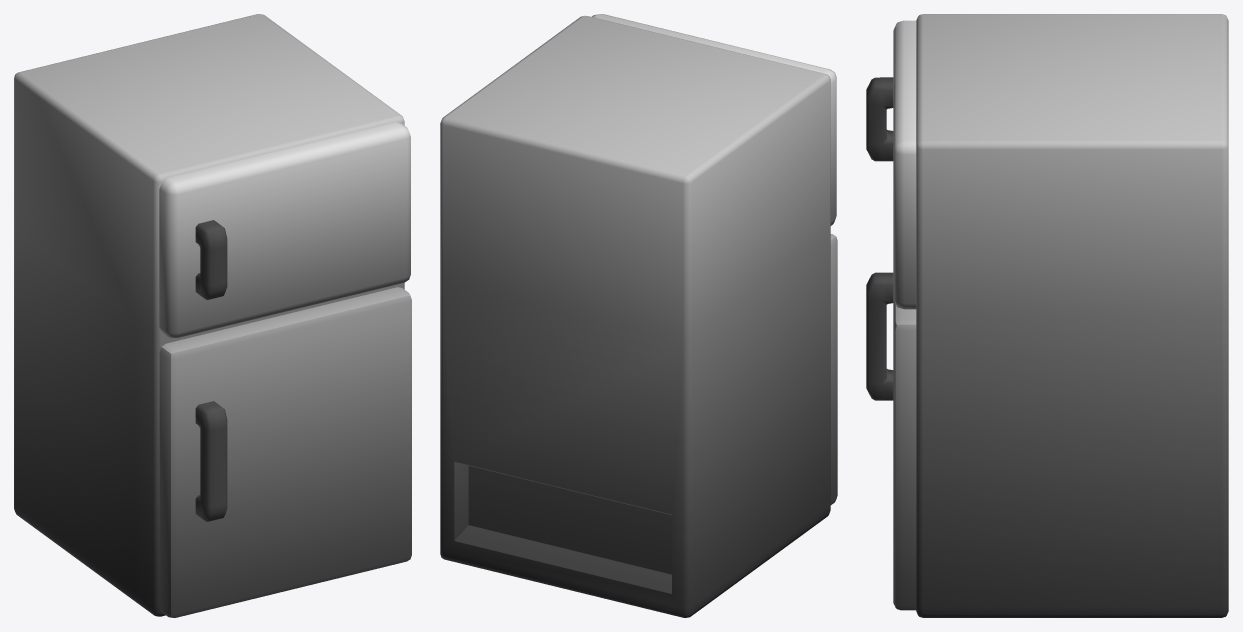
The model's file is Refrigerator_01.fbx.
The picture shows the model from 3 angles, left to right: view 1: azimuth 30°, elevation 25°; view 2: azimuth 150°, elevation 25°; view 3: azimuth 270°, elevation 25°; orthographic projection. The views are drawn at different scales.
Visible parts, largest first — view 1: Refrigerator_01, Refrigerator_01_Door_L, Refrigerator_01_Door_U; view 2: Refrigerator_01, Refrigerator_01_Door_U, Refrigerator_01_Door_L; view 3: Refrigerator_01, Refrigerator_01_Door_L, Refrigerator_01_Door_U.
Boxes of the visible parts, x1,y1,x2,y2 form: Refrigerator_01: (14,14,404,616); Refrigerator_01_Door_L: (159,287,411,617); Refrigerator_01_Door_U: (159,122,410,338); Refrigerator_01: (440,15,830,617); Refrigerator_01_Door_U: (591,14,836,225); Refrigerator_01_Door_L: (830,234,837,504); Refrigerator_01: (916,14,1228,617); Refrigerator_01_Door_L: (866,272,916,610); Refrigerator_01_Door_U: (866,20,916,309).
Bounding box in the file's own units: 100 × 169 × 116.
